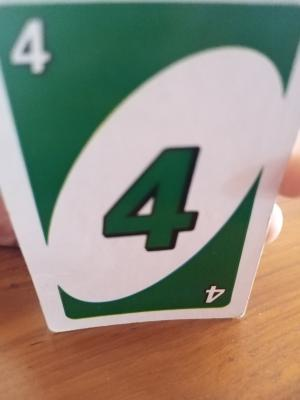green: (13, 8, 249, 305)
num_4: (5, 19, 58, 79), (200, 281, 232, 309)
